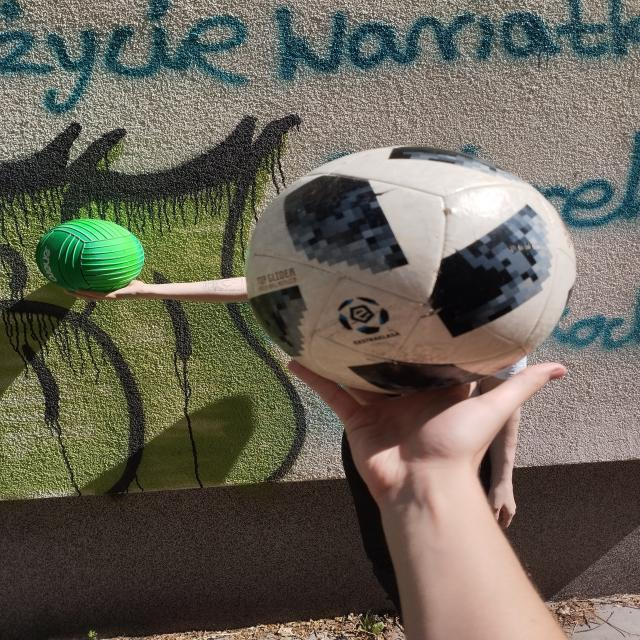nozna: (245, 146, 577, 394)
zielona: (36, 219, 144, 293)
